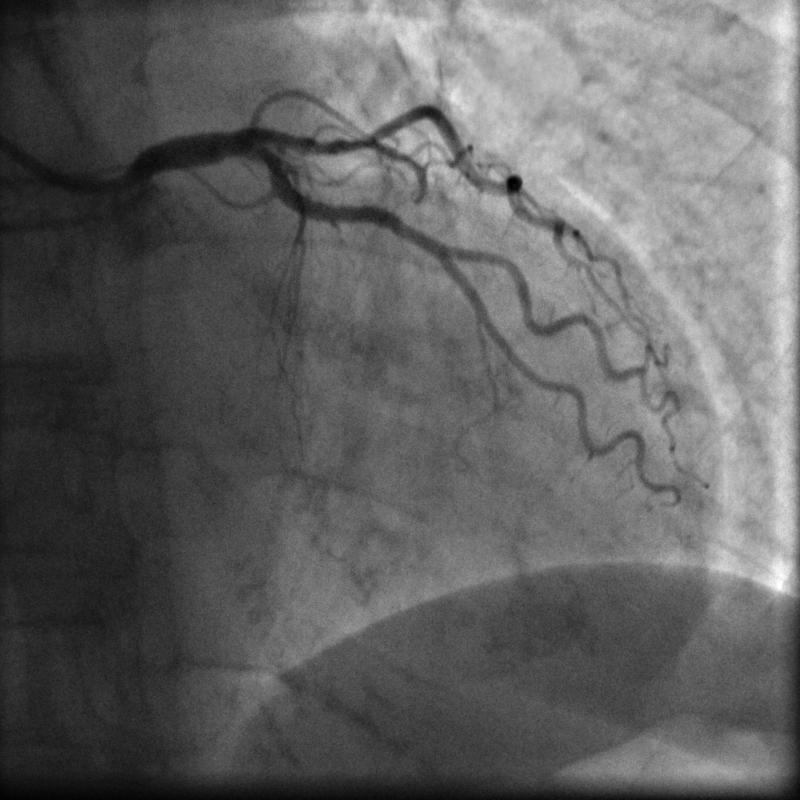Stenosis: (354, 130, 380, 146)
